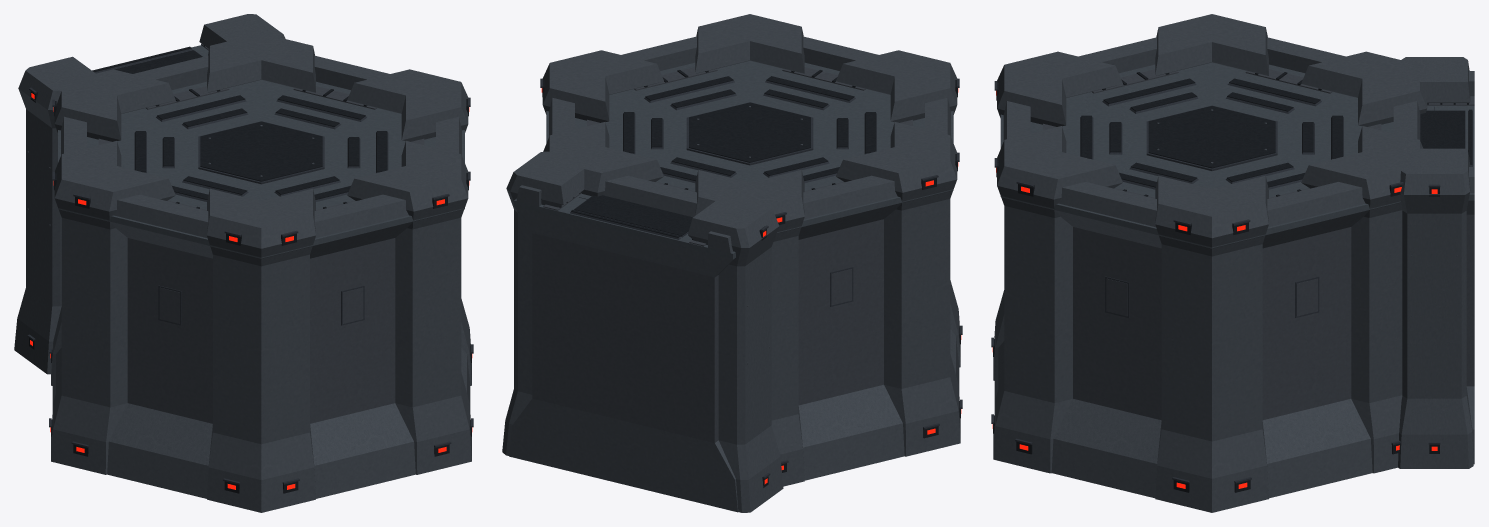
Rendered from pier.glb.
3 views of the same model, side by side, from view 1: azimuth 30°, elevation 25°; view 2: azimuth 150°, elevation 25°; view 3: azimuth 270°, elevation 25° (orthographic). The views are drawn at different scales.
Parts seen in each view (by area): view 1: pier-lod0-roof0, pier-lod0-base0, pier-lod0-floor0, pier-lod0-roof0-link-n, pier-lod0-base0-link-n, pier-lod0-floor0-link-n; view 2: pier-lod0-roof0, pier-lod0-base0-link-n, pier-lod0-floor0-link-n, pier-lod0-base0, pier-lod0-floor0, pier-lod0-roof0-link-n; view 3: pier-lod0-roof0, pier-lod0-base0, pier-lod0-floor0, pier-lod0-roof0-link-n, pier-lod0-base0-link-n, pier-lod0-floor0-link-n.
Boxes of the visible parts, bbox=[...] form: pier-lod0-roof0: bbox=[52, 33, 470, 278]; pier-lod0-base0: bbox=[49, 299, 473, 512]; pier-lod0-floor0: bbox=[61, 230, 461, 393]; pier-lod0-roof0-link-n: bbox=[18, 14, 285, 140]; pier-lod0-base0-link-n: bbox=[14, 236, 61, 374]; pier-lod0-floor0-link-n: bbox=[26, 122, 61, 255]; pier-lod0-roof0: bbox=[540, 14, 959, 254]; pier-lod0-base0-link-n: bbox=[502, 337, 783, 512]; pier-lod0-floor0-link-n: bbox=[514, 222, 771, 393]; pier-lod0-base0: bbox=[771, 280, 962, 486]; pier-lod0-floor0: bbox=[771, 211, 950, 369]; pier-lod0-roof0-link-n: bbox=[506, 151, 779, 278]; pier-lod0-roof0: bbox=[994, 14, 1427, 269]; pier-lod0-base0: bbox=[991, 290, 1402, 512]; pier-lod0-floor0: bbox=[1004, 219, 1402, 388]; pier-lod0-roof0-link-n: bbox=[1400, 57, 1474, 226]; pier-lod0-base0-link-n: bbox=[1398, 333, 1474, 468]; pier-lod0-floor0-link-n: bbox=[1402, 214, 1474, 345].
Size of what is drawn, in the model's own units: 69.28 by 44 by 66.28.
Materials: 6 (6 with a texture image).
